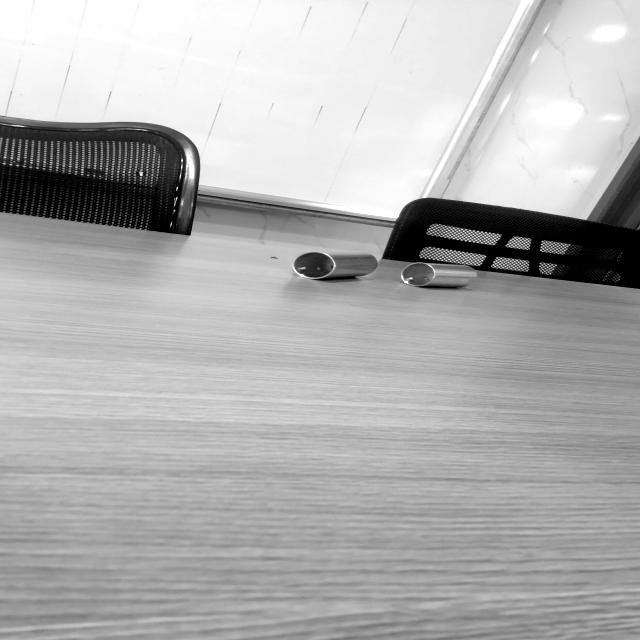Co_Lon: (292, 252, 378, 281)
Co_Nho: (399, 261, 478, 291)
